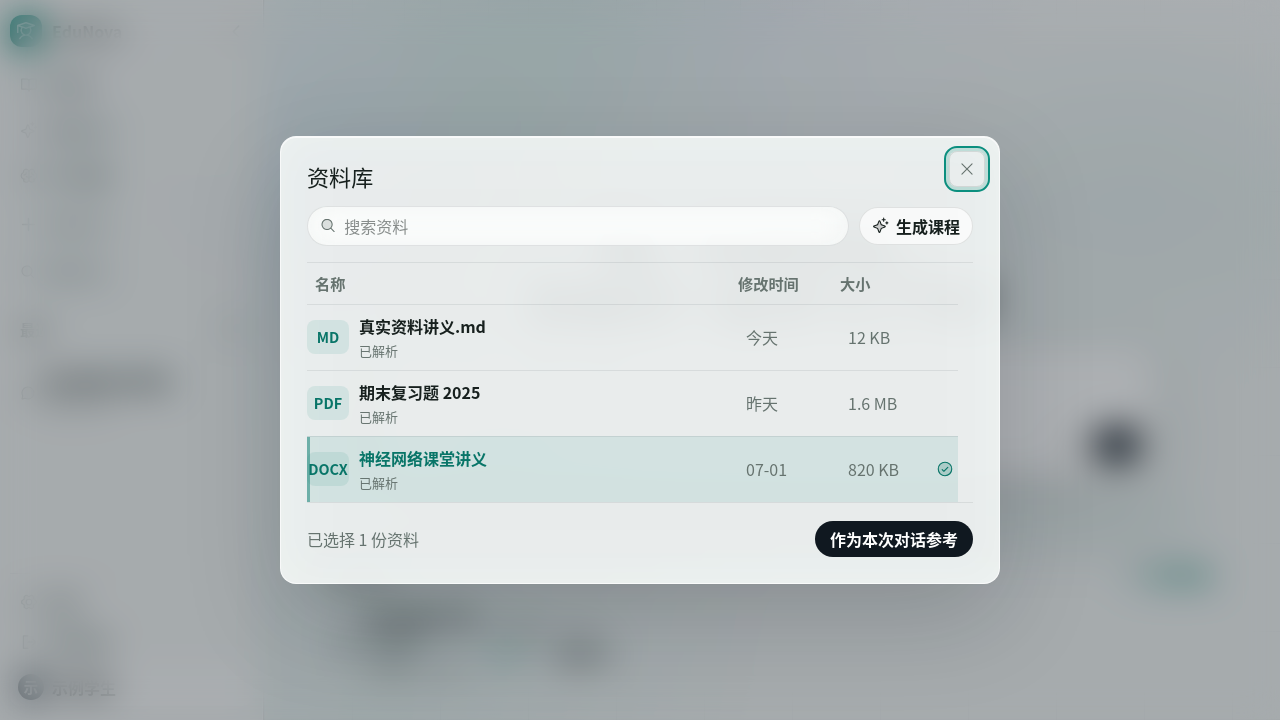
LearningSpacePage › restores a material selected from the library navigation state
This screenshot has width=1280, height=720.
Expected: the text "共 1 份" is not shown
Click the button "作为本次对话参考" at (894, 539), box [815, 521, 973, 557]
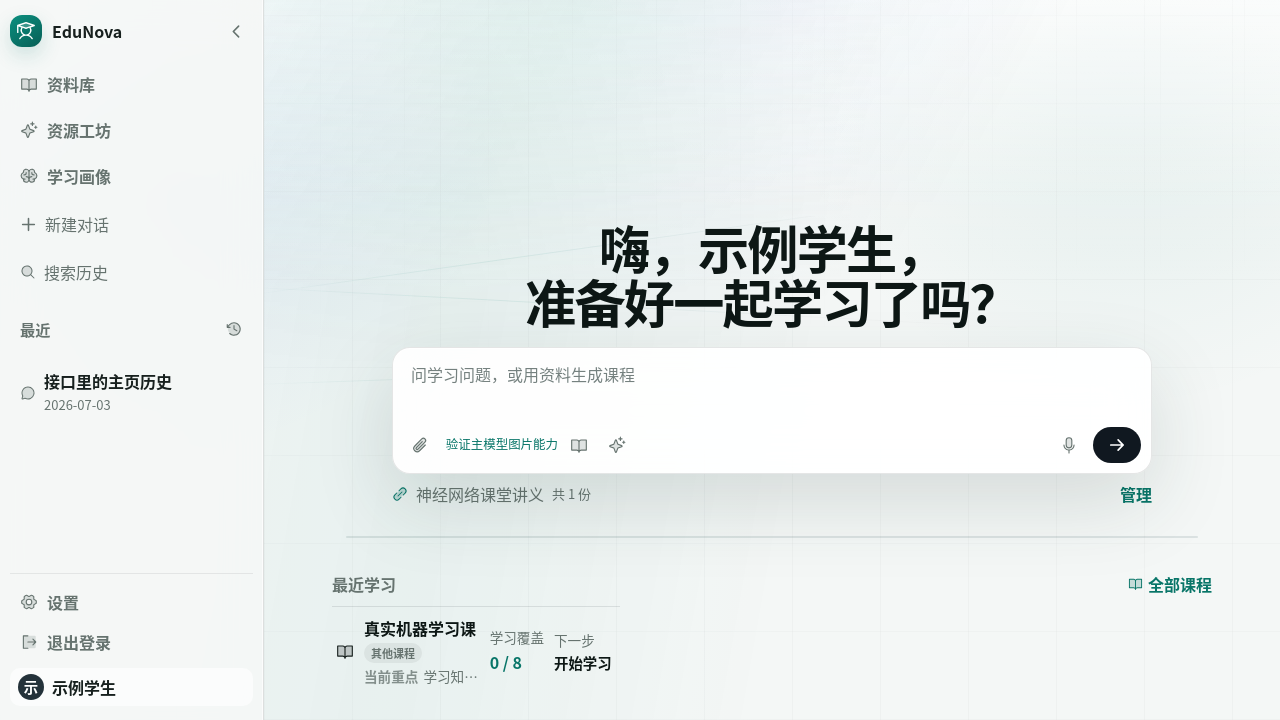
Now the text "共 1 份" is shown, box [552, 484, 591, 503]
